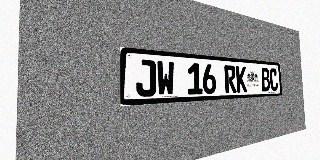1: (187, 63, 203, 95)
6: (202, 64, 216, 94)
B: (261, 68, 270, 91)
C: (269, 68, 278, 91)
J: (136, 59, 156, 97)
K: (236, 66, 247, 93)
R: (224, 65, 236, 93)
W: (156, 60, 175, 96)
